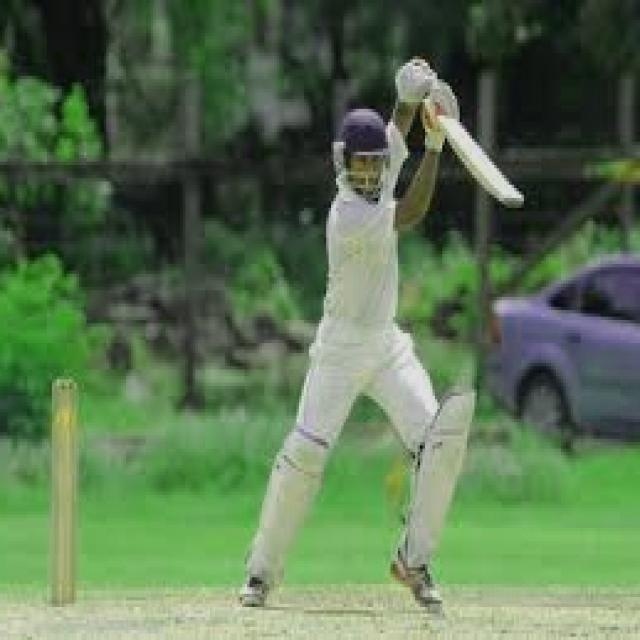toe: (492, 186, 528, 207)
